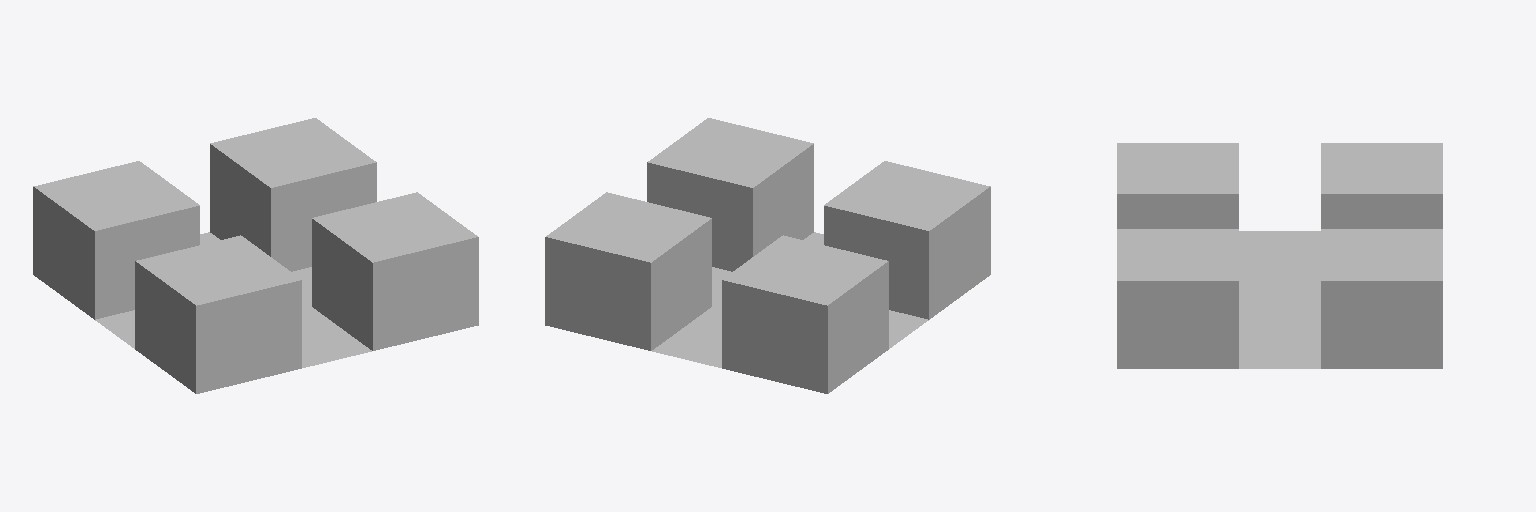
The model's file is center.obj.
3 views of the same model, side by side, from view 1: azimuth 30°, elevation 25°; view 2: azimuth 150°, elevation 25°; view 3: azimuth 270°, elevation 25° (orthographic).
Parts seen in each view (by area): view 1: Plane; view 2: Plane; view 3: Plane.
Boxes of the visible parts, x1,y1,x2,y2 form: Plane: [33, 118, 478, 393]; Plane: [545, 118, 990, 393]; Plane: [1117, 143, 1442, 368].
Size of the model in its own units: 20 by 6 by 20.